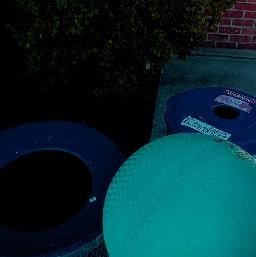algae: (107, 130, 256, 257)
